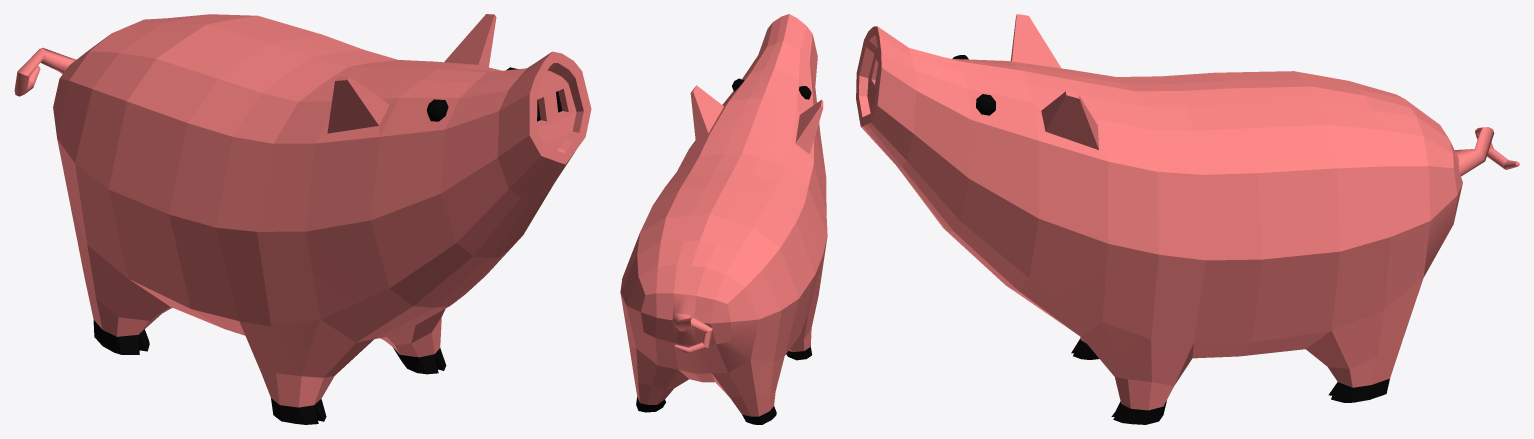
Rendered from pig.fbx.
The picture shows the model from 3 angles, left to right: view 1: azimuth 30°, elevation 25°; view 2: azimuth 150°, elevation 25°; view 3: azimuth 270°, elevation 25°; orthographic projection. The views are drawn at different scales.
Visible parts, largest first — view 1: Object001; view 2: Object001; view 3: Object001.
Part boxes in pixels (bbox=[...]): Object001: bbox=[14, 14, 591, 424]; Object001: bbox=[620, 14, 827, 424]; Object001: bbox=[856, 14, 1519, 424].
Size of the model in its own units: 13.92 by 19.53 by 30.55.
